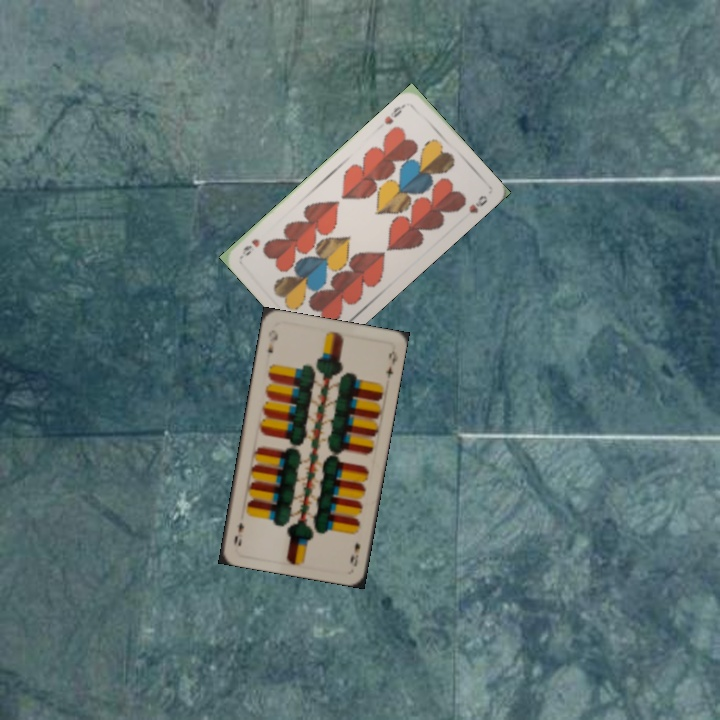E9: (263, 325, 280, 356), (346, 539, 363, 569)
H9: (380, 100, 411, 127)
